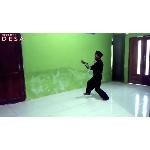Celurit: (78, 56, 95, 76)
